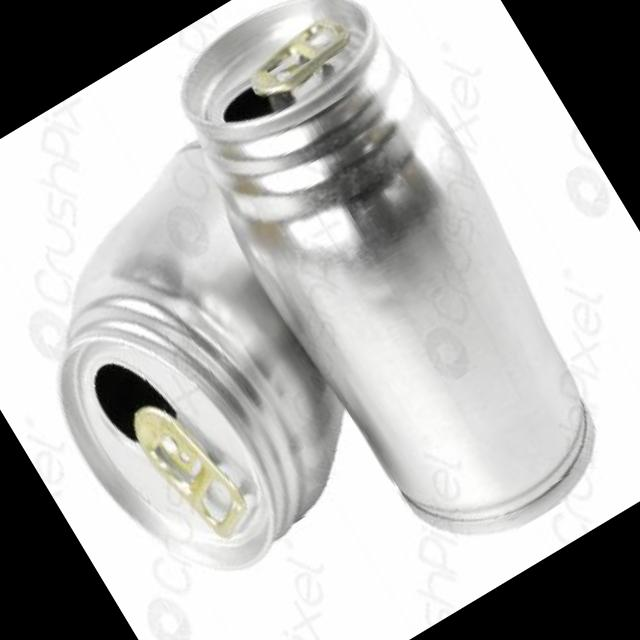Kaleng: (133, 0, 640, 579), (0, 146, 397, 617)
